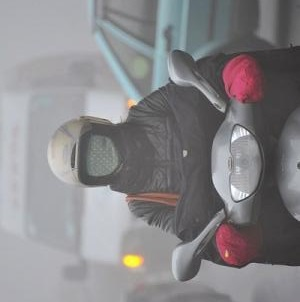person: (44, 86, 216, 232)
